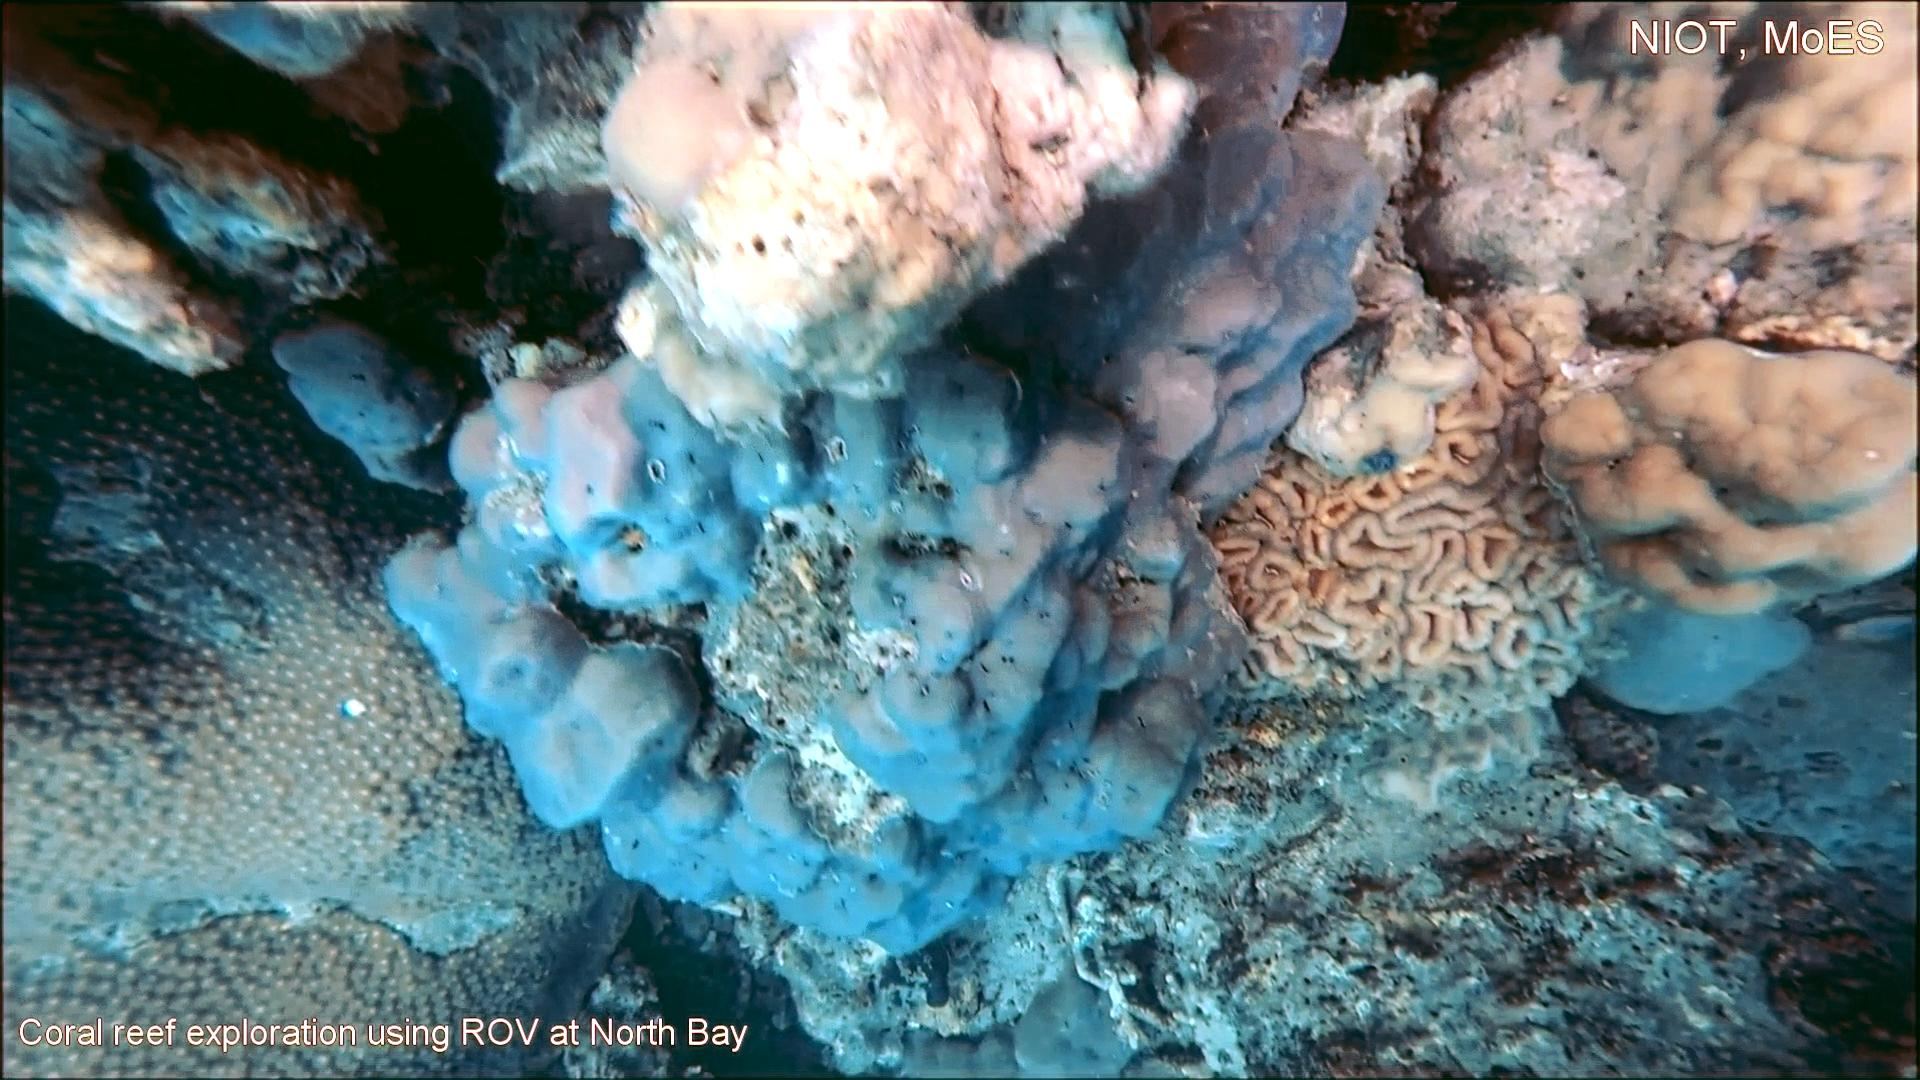Lobophyllia: (1204, 302, 1635, 748)
